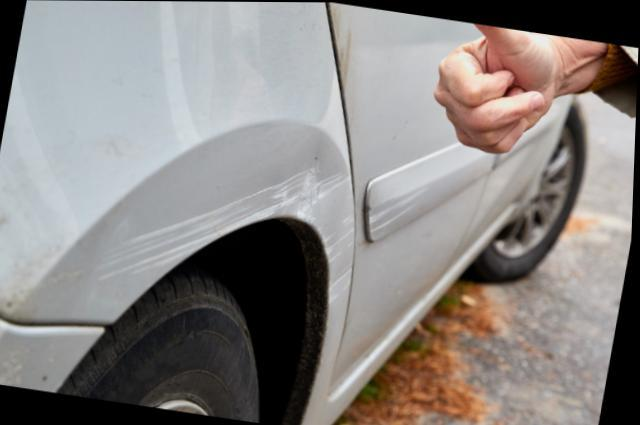scratch: (97, 164, 357, 300), (366, 184, 426, 235)
